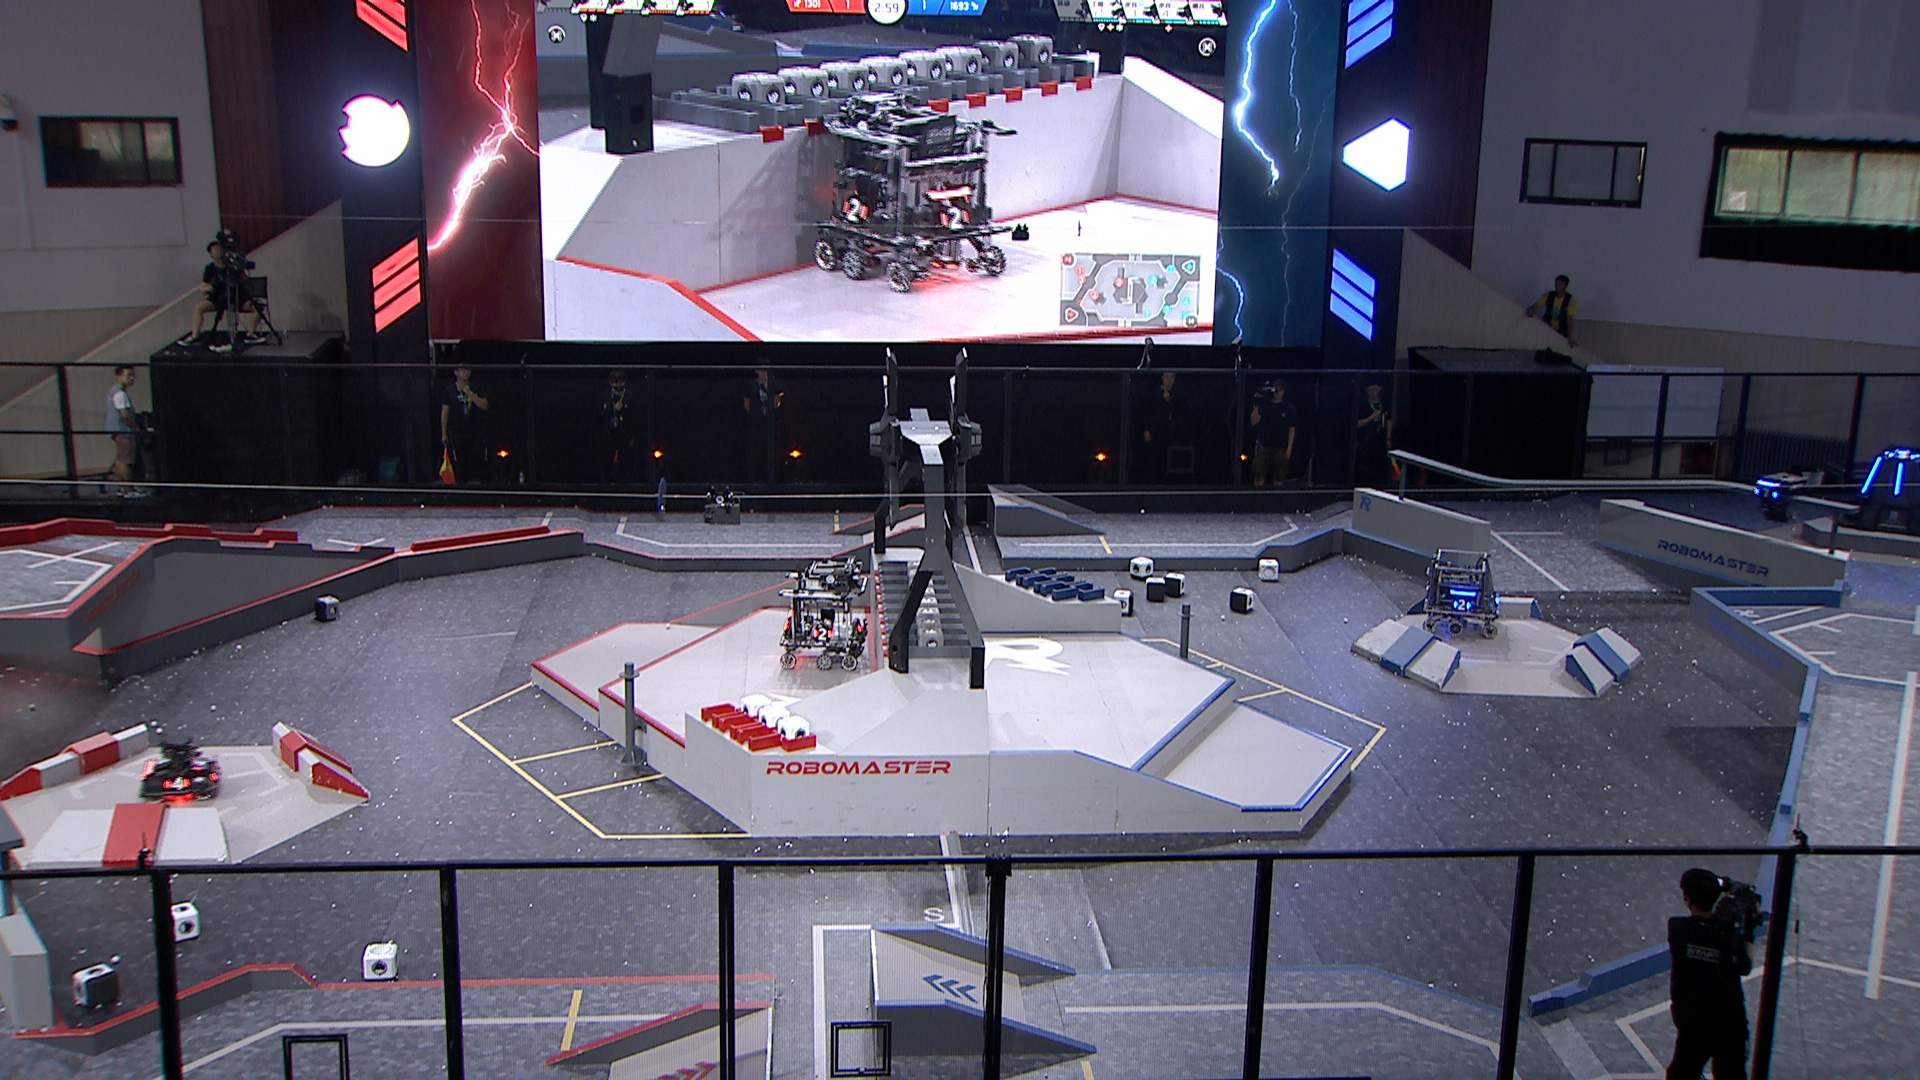armor: (1859, 451, 1884, 495), (1890, 458, 1907, 498), (164, 773, 193, 793), (1754, 485, 1782, 501), (1887, 448, 1917, 462), (204, 764, 224, 783), (811, 626, 833, 642), (189, 754, 208, 771), (1451, 597, 1472, 613), (1490, 584, 1503, 604)
base: (1830, 444, 1920, 541)
car: (775, 553, 869, 673), (1420, 549, 1505, 638), (136, 731, 228, 802)
ignore: (808, 86, 1025, 291)
watcher: (1745, 465, 1807, 526)
